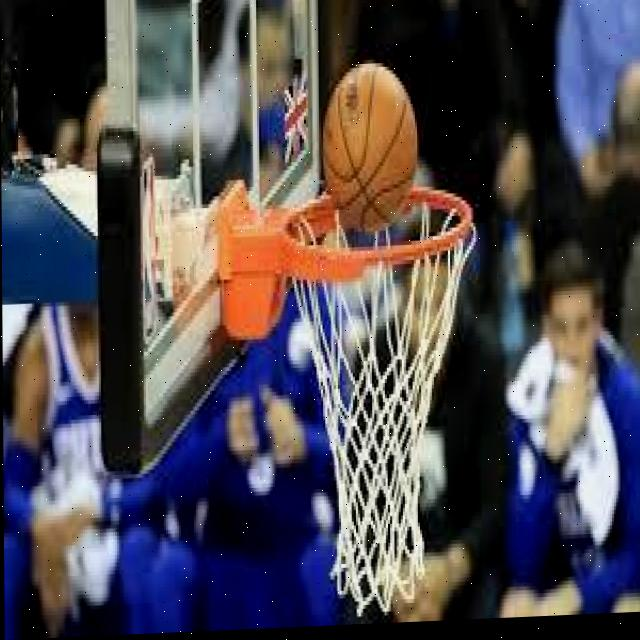basketball: (321, 54, 420, 241)
hoop: (278, 181, 481, 628)
